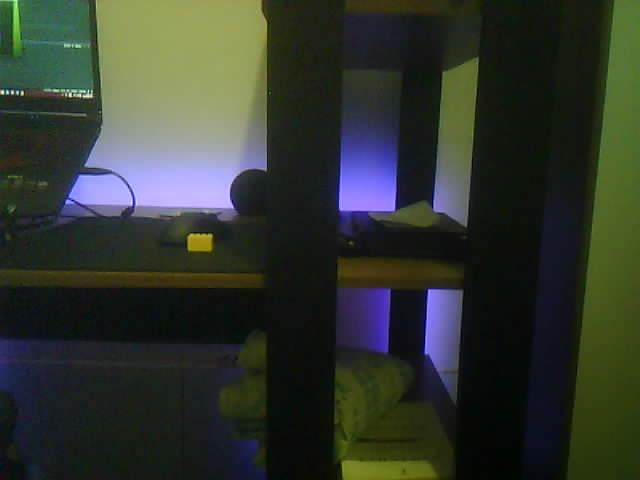lego: (187, 232, 214, 253)
